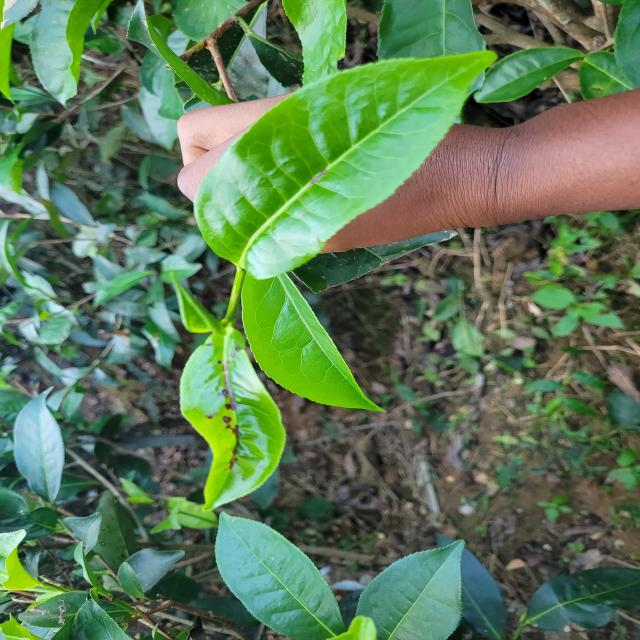Catagory A(1-2 days): (191, 51, 498, 282)
